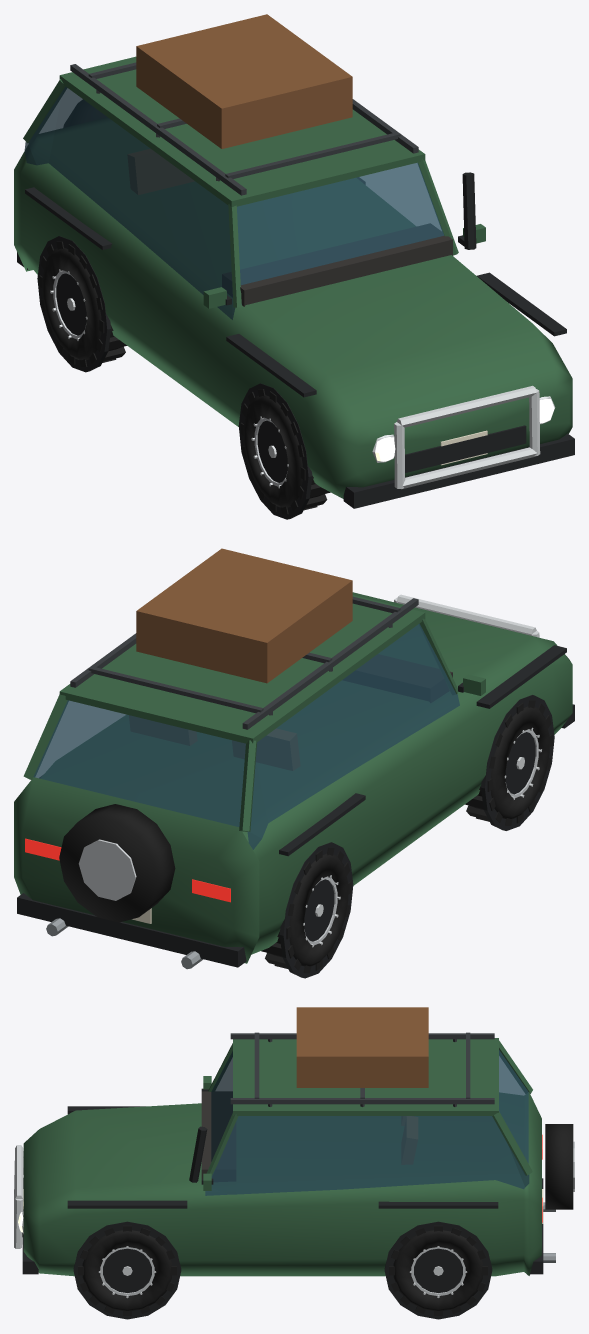
File: timberline-4x4.glb
The picture shows the model from 3 angles, top to bottom: view 1: azimuth 30°, elevation 25°; view 2: azimuth 150°, elevation 25°; view 3: azimuth 270°, elevation 25°; orthographic projection. The views are drawn at different scales.
Visible parts, largest first — view 1: body, wheel_FR, wheel_RR; view 2: body, wheel_RR, wheel_FR, taillight_R; view 3: body, wheel_RL, wheel_FL.
Boxes of the visible parts, x1,y1,x2,y2 form: body: [14, 14, 574, 519]; wheel_FR: [240, 389, 330, 514]; wheel_RR: [39, 241, 126, 366]; body: [14, 548, 574, 978]; wheel_RR: [261, 847, 351, 973]; wheel_FR: [465, 700, 552, 825]; taillight_R: [192, 879, 230, 902]; body: [14, 1007, 574, 1319]; wheel_RL: [389, 1225, 487, 1315]; wheel_FL: [78, 1225, 176, 1315].
Size of the model in its own units: 2.15 by 2.31 by 4.87.
